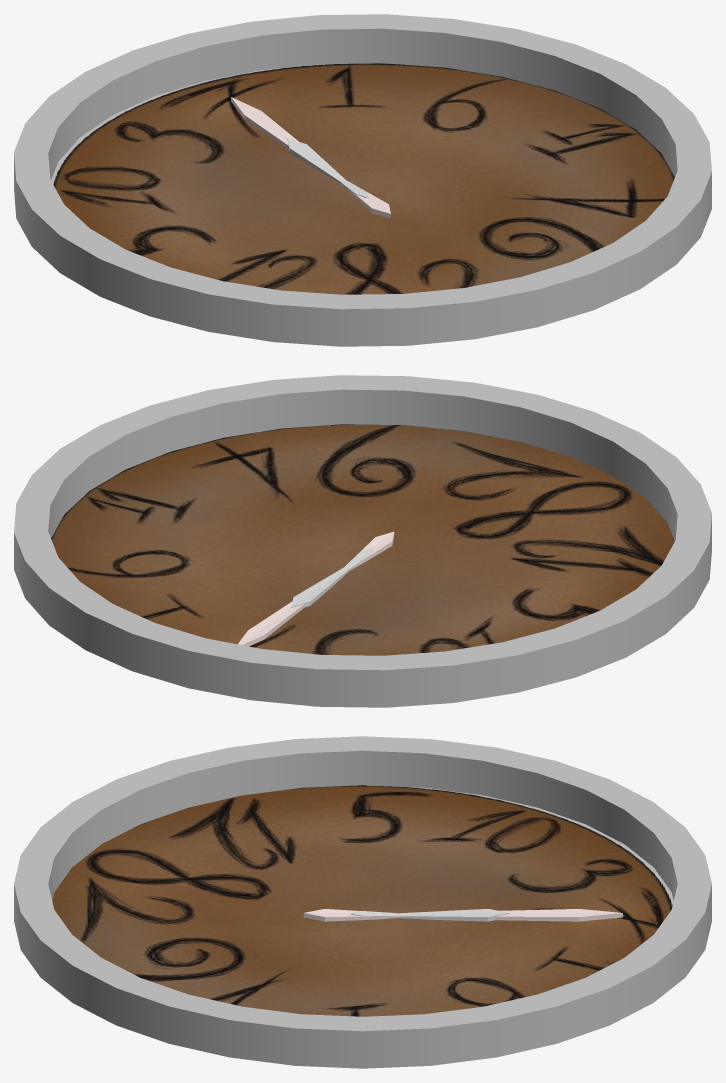
File: saat.fbx
3 renders of one model, top to bottom at view 1: azimuth 30°, elevation 25°; view 2: azimuth 150°, elevation 25°; view 3: azimuth 270°, elevation 25°, orthographic.
Visible parts, largest first — view 1: KADRAN, YELKOVAN, AKREP; view 2: KADRAN, YELKOVAN, AKREP; view 3: KADRAN, YELKOVAN, AKREP.
Boxes of the visible parts, x1,y1,x2,y2 form: KADRAN: [14, 14, 711, 346]; YELKOVAN: [231, 97, 390, 218]; AKREP: [287, 138, 368, 197]; KADRAN: [14, 375, 711, 707]; YELKOVAN: [238, 531, 394, 646]; AKREP: [291, 548, 372, 607]; KADRAN: [14, 736, 711, 1068]; YELKOVAN: [303, 909, 622, 921]; AKREP: [351, 909, 510, 921].
Size of the model in its own units: 200 by 11.83 by 200.
